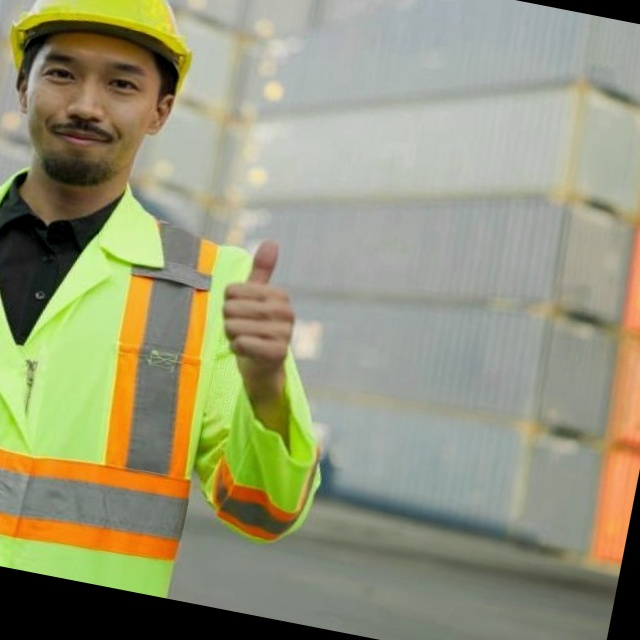Con_Casco: (0, 0, 208, 203)
Con_Chaleco: (0, 159, 247, 600)
